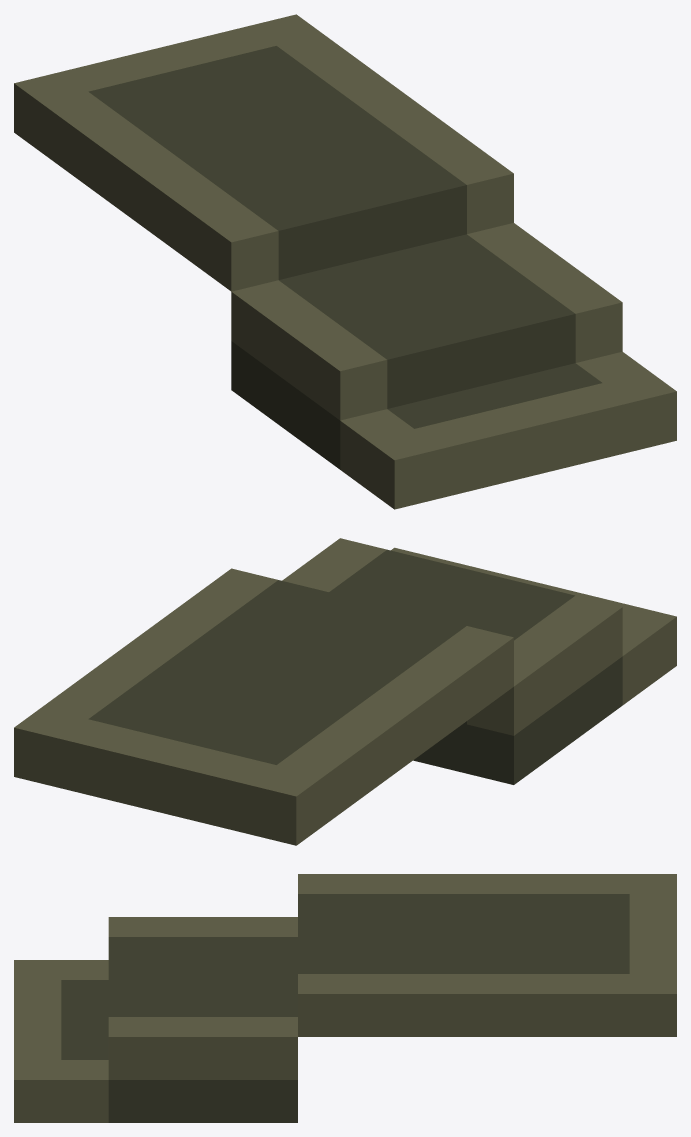
File: Extra-14-StarMarine_ThrusterHood_R.obj
The picture shows the model from 3 angles, top to bottom: view 1: azimuth 30°, elevation 25°; view 2: azimuth 150°, elevation 25°; view 3: azimuth 270°, elevation 25°; orthographic projection. The views are drawn at different scales.
Parts seen in each view (by area): view 1: StarMarine_ThrusterHood_R; view 2: StarMarine_ThrusterHood_R; view 3: StarMarine_ThrusterHood_R.
Part boxes in pixels (x1,y1,x2,y2): StarMarine_ThrusterHood_R: [14, 14, 676, 509]; StarMarine_ThrusterHood_R: [14, 538, 676, 845]; StarMarine_ThrusterHood_R: [14, 874, 676, 1122].
Bounding box in the file's own units: 0.6 × 0.3 × 1.4.
1 material, 1 textured.
